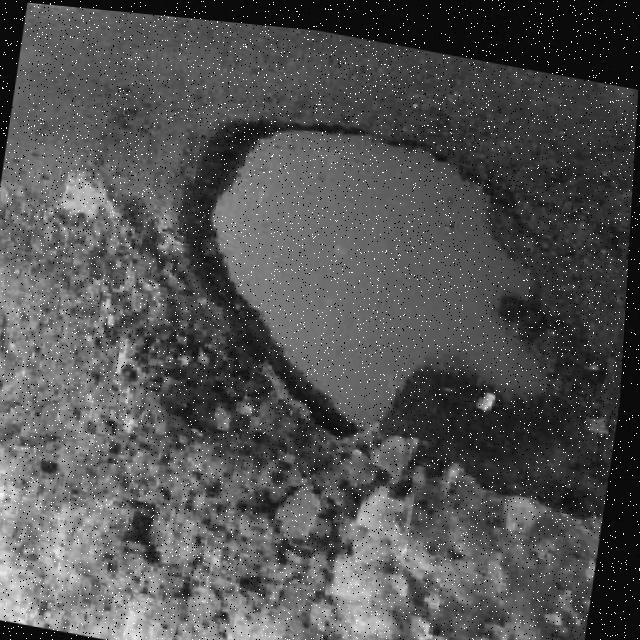pothole: (146, 88, 588, 472)
